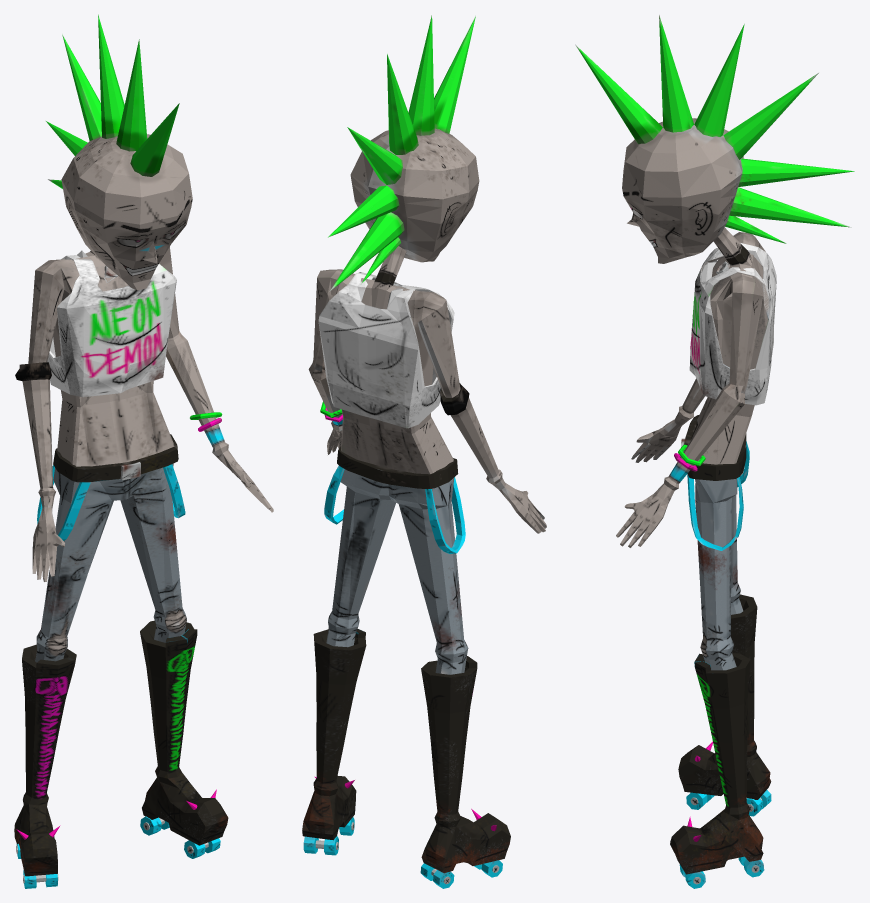
File: punkAnimation_000001.obj
The picture shows the model from 3 angles, left to right: view 1: azimuth 30°, elevation 25°; view 2: azimuth 150°, elevation 25°; view 3: azimuth 270°, elevation 25°; orthographic projection. The views are drawn at different scales.
Parts seen in each view (by area): view 1: Cube.004_Cube.003; view 2: Cube.004_Cube.003; view 3: Cube.004_Cube.003.
Part boxes in pixels (x1,y1,x2,y2): Cube.004_Cube.003: [14, 14, 273, 888]; Cube.004_Cube.003: [302, 15, 546, 888]; Cube.004_Cube.003: [575, 15, 854, 888].
Size of the model in its own units: 2.12 by 7.57 by 2.32.
